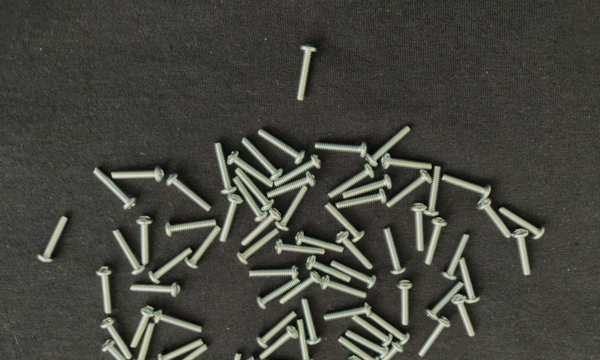longscrew: (92, 167, 138, 212), (165, 172, 214, 214), (385, 169, 434, 211), (364, 126, 413, 167), (241, 136, 284, 181), (227, 151, 275, 190), (110, 228, 147, 278), (257, 129, 307, 166), (325, 163, 375, 200), (323, 202, 366, 244), (235, 168, 275, 213), (232, 175, 268, 224), (147, 248, 194, 285), (498, 206, 546, 242), (240, 208, 283, 248), (185, 224, 222, 270), (36, 214, 70, 264), (273, 154, 323, 188), (335, 231, 375, 272), (424, 281, 465, 321), (256, 311, 299, 349), (476, 196, 513, 240), (236, 229, 281, 265), (255, 277, 302, 311), (275, 185, 309, 232), (367, 310, 411, 346), (440, 232, 471, 283), (266, 171, 318, 200), (441, 172, 493, 201), (279, 271, 322, 306), (417, 316, 452, 359), (100, 317, 134, 360), (342, 173, 394, 201), (330, 259, 378, 289), (258, 325, 299, 360), (295, 41, 318, 102), (218, 193, 245, 244), (351, 315, 394, 347), (305, 256, 352, 285), (153, 309, 205, 335), (381, 225, 408, 275), (344, 330, 390, 359), (423, 217, 449, 268), (213, 141, 237, 196), (422, 165, 445, 219), (320, 275, 369, 300), (130, 304, 157, 349), (450, 294, 477, 339), (295, 231, 345, 255), (313, 138, 369, 159), (335, 188, 388, 210), (458, 257, 482, 305), (300, 297, 323, 347), (511, 227, 533, 278), (110, 163, 166, 183), (323, 302, 373, 323), (409, 200, 428, 255), (337, 336, 380, 360), (157, 339, 205, 360), (164, 218, 217, 237), (381, 153, 434, 172), (135, 214, 154, 266), (274, 239, 327, 257), (95, 266, 114, 316), (395, 278, 414, 327), (131, 323, 156, 360), (129, 281, 182, 298), (295, 318, 316, 360), (101, 339, 141, 360), (247, 265, 300, 280), (366, 340, 404, 360), (166, 343, 210, 360), (246, 355, 296, 360), (221, 351, 244, 360), (345, 354, 364, 360)
